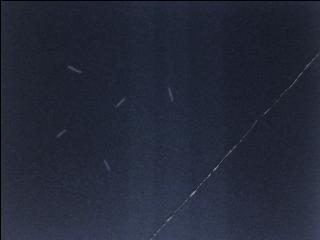crack: (151, 52, 320, 240)
scratch: (100, 152, 121, 174), (66, 62, 83, 77), (112, 95, 126, 109), (55, 127, 70, 140), (167, 86, 176, 104)
